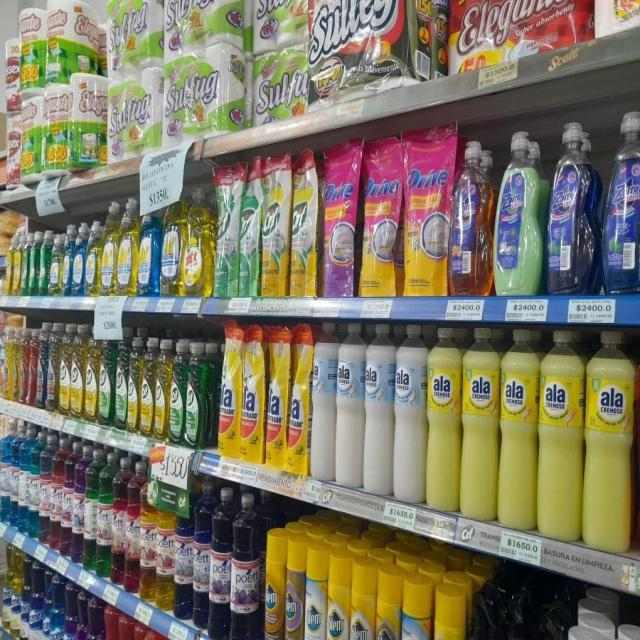ala_conc_amarillo: (47, 323, 59, 413)
ala_conc_azul: (37, 321, 47, 411)
ala_conc_rojo: (29, 326, 37, 409), (21, 327, 29, 407)
ala_crem_amarillo: (584, 329, 635, 554), (538, 328, 583, 544), (499, 328, 538, 532), (461, 326, 498, 522), (426, 326, 461, 514)
ala_crem_blanco: (394, 323, 426, 504), (364, 321, 393, 497), (336, 322, 363, 489), (310, 322, 335, 482)
ala_sachet_amarillo: (288, 322, 310, 476), (240, 324, 264, 464), (266, 324, 288, 471), (217, 324, 240, 458)
cif_conc_bot_amarilla: (155, 337, 169, 441), (141, 336, 154, 438), (85, 326, 98, 423), (71, 324, 84, 419), (128, 334, 140, 434), (59, 322, 71, 418)
cif_conc_botella_verde: (186, 341, 206, 448), (98, 329, 114, 426), (170, 339, 184, 445), (115, 331, 127, 430)
cif_conc_sachet_amarillo: (290, 148, 318, 298), (261, 152, 289, 298)
drive: (404, 125, 450, 297), (360, 134, 402, 298), (451, 137, 492, 297), (322, 138, 358, 299)
magistral_con_amarillo: (160, 191, 182, 296), (118, 198, 137, 296), (101, 201, 118, 296), (86, 219, 100, 296), (49, 230, 61, 296), (0, 220, 10, 296), (12, 225, 22, 296)
magistral_con_azul: (138, 201, 159, 296), (73, 222, 85, 296), (61, 224, 73, 296)
odex: (183, 188, 211, 296)
zorro: (546, 118, 598, 296), (494, 128, 543, 296), (601, 108, 640, 295)
